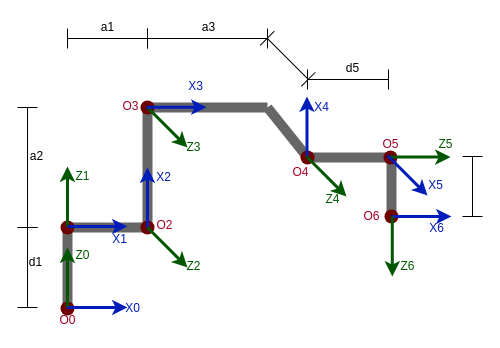
The diagram is 500 pixels wide and 348 high, and some of its shapes have lost their labels. The centre of each missing label's shape, as x and y in pixels:
"d4" goes at point 287,58.
"d6" goes at point 472,186.
"O1" goes at point 67,227.
